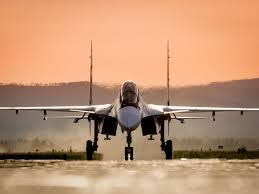maybay_muctieu: (5, 40, 259, 160)
